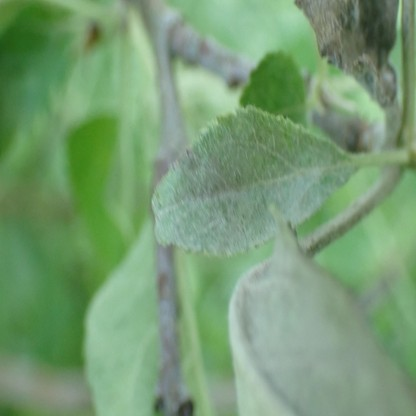powder: (230, 253, 416, 415), (150, 107, 354, 253), (294, 0, 398, 107)
